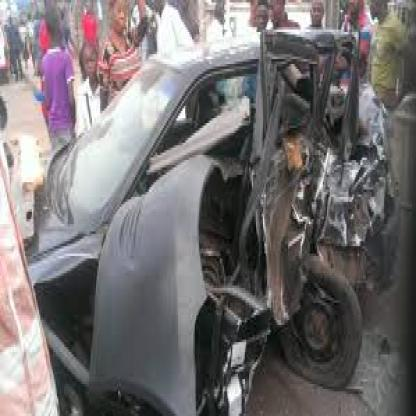accident: (2, 31, 410, 407)
